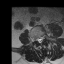CCS_normal: (39, 35, 40, 44)
LFS_normal: (42, 33, 44, 41)
LLS_normal: (40, 34, 42, 43)
RFS_normal: (35, 35, 37, 43)
RLS_normal: (37, 35, 39, 43)
